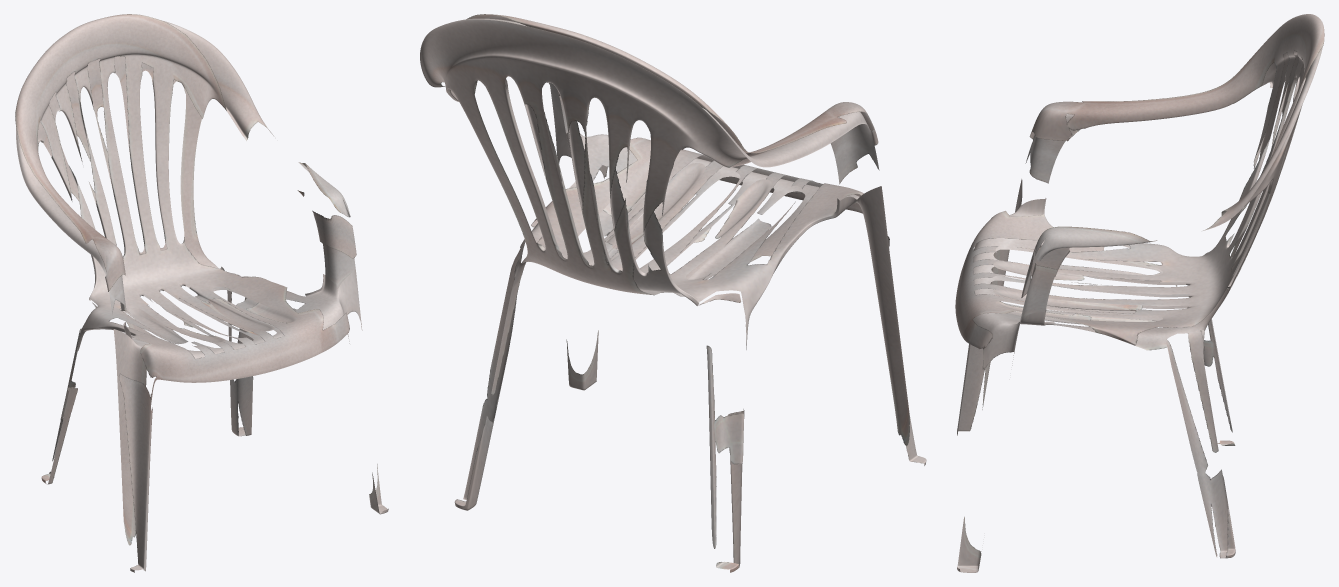
File: motivational_chair.obj
3 renders of one model, left to right at view 1: azimuth 30°, elevation 25°; view 2: azimuth 150°, elevation 25°; view 3: azimuth 270°, elevation 25°, orthographic. The views are drawn at different scales.
Visible parts, largest first — view 1: motivational_chair; view 2: motivational_chair; view 3: motivational_chair.
Part boxes in pixels (x1,y1,x2,y2): motivational_chair: (15,14,388,572); motivational_chair: (420,14,926,572); motivational_chair: (955,14,1324,572).
Bounding box in the file's own units: 0.8411 × 1.27 × 0.9116.
